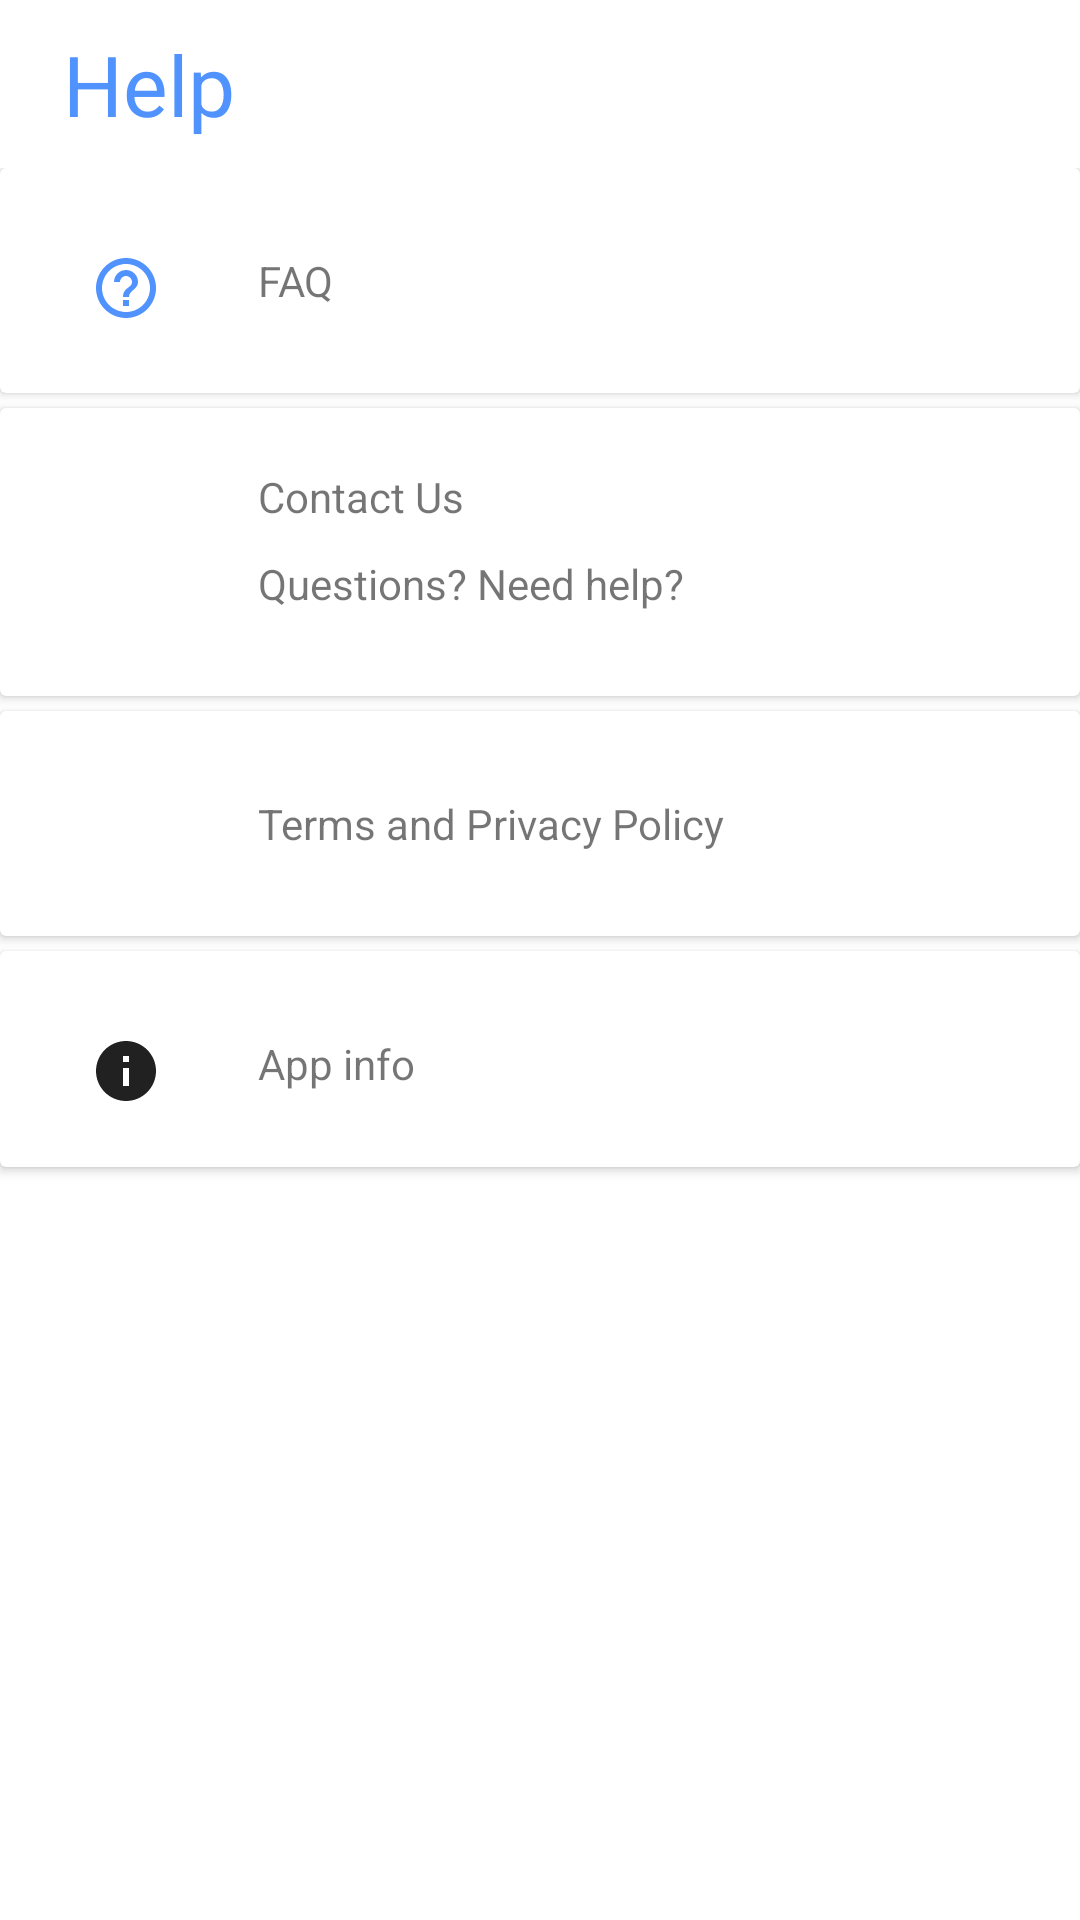

Icons on this 1080x1920 Android screen, each with its box as (x1, y1, x2, y2):
about: (96, 1041, 156, 1101)
